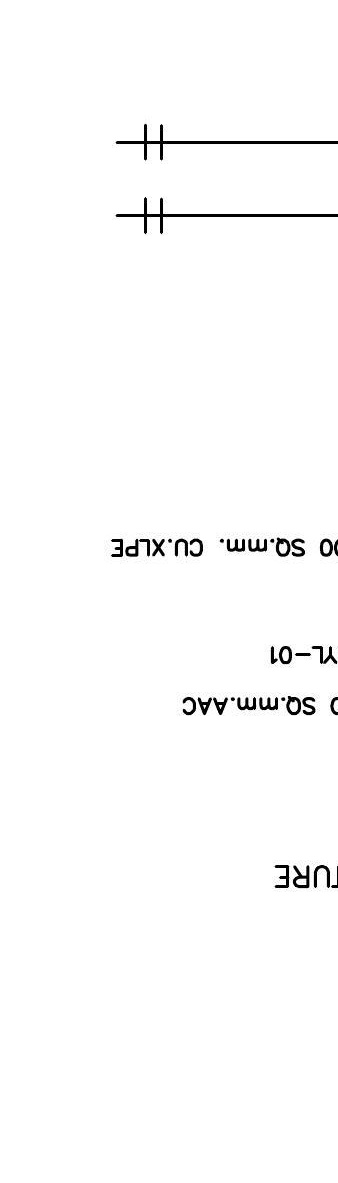115_buffer: (144, 197, 163, 234), (144, 124, 163, 161)
